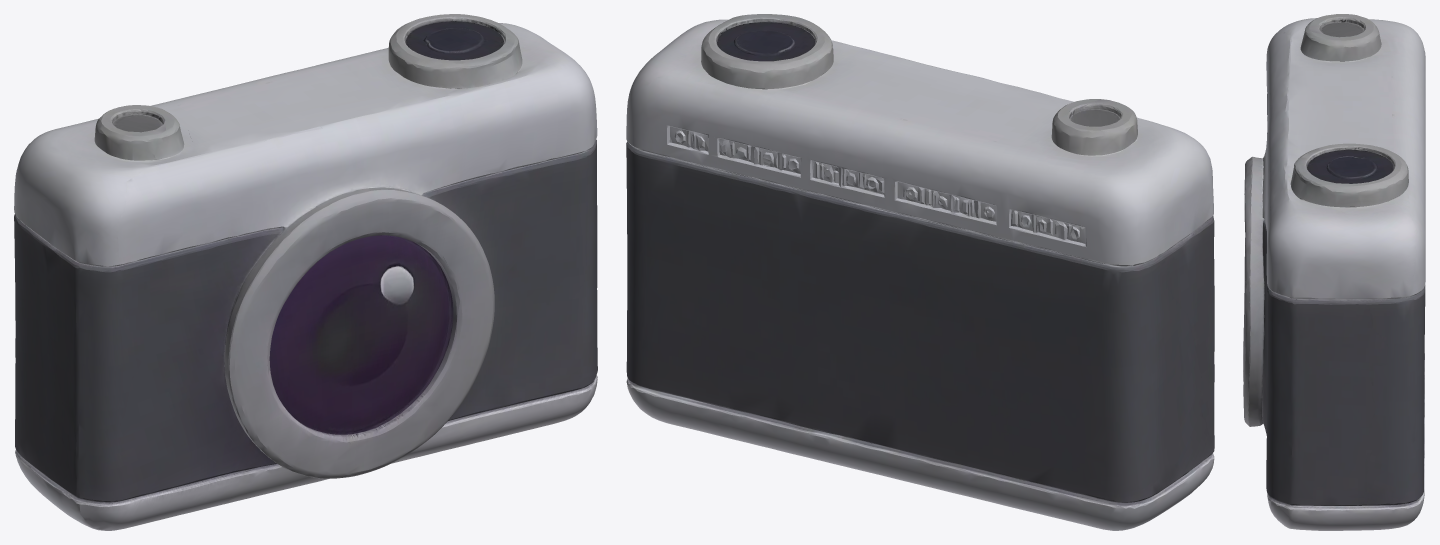
File: camera.glb
3 views of the same model, side by side, from view 1: azimuth 30°, elevation 25°; view 2: azimuth 150°, elevation 25°; view 3: azimuth 270°, elevation 25° (orthographic). The views are drawn at different scales.
Parts seen in each view (by area): view 1: model; view 2: model; view 3: model.
Part boxes in pixels (bbox=[...]): model: bbox=[14, 14, 597, 530]; model: bbox=[626, 14, 1214, 530]; model: bbox=[1243, 14, 1425, 530].
Bounding box in the file's own units: 1 × 0.6837 × 0.3434.
1 material, 1 textured.
